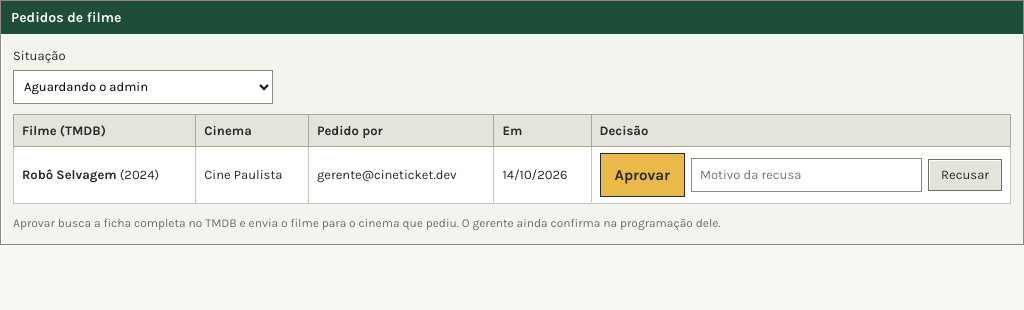
Test case: pedidos de filme (admin) › abre na fila aguardando, recusa com o motivo e aprova
This screenshot has width=1024, height=310.
Click the button with aria-label "Recusar Robô Selvagem" at (965, 175), box [928, 159, 1002, 191]
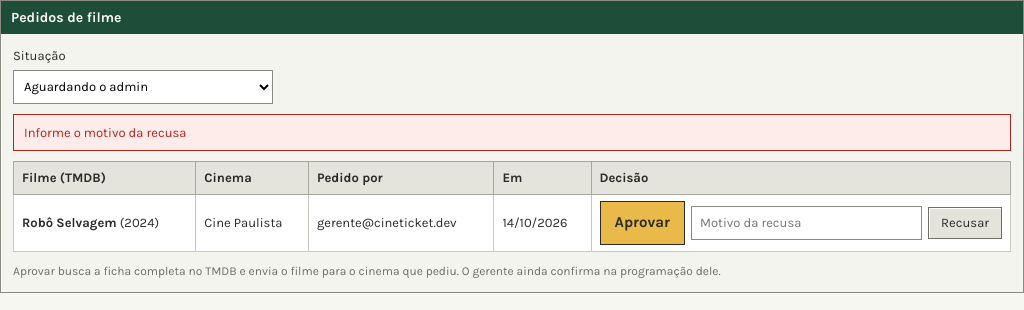
expect the message reads "Informe o motivo da recusa": met, box [24, 124, 186, 140]
Type " Fora do perfil da rede " into the field named "Motivo da recusa de Robô Selvagem" at (806, 222), box [691, 206, 922, 240]
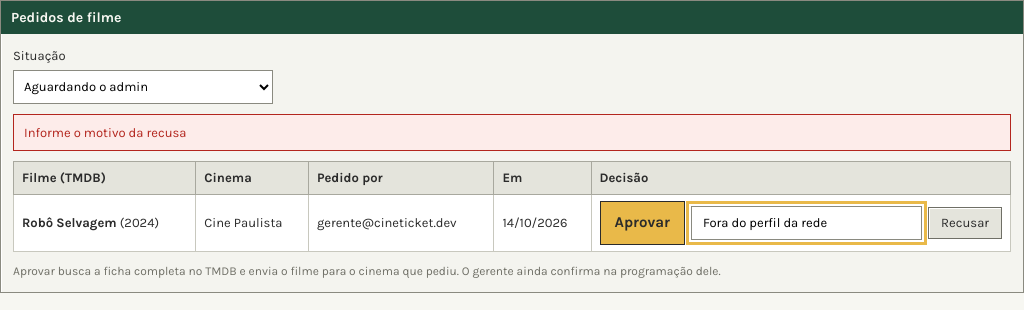
Click the button with aria-label "Recusar Robô Selvagem" at (965, 222), box [928, 206, 1002, 238]
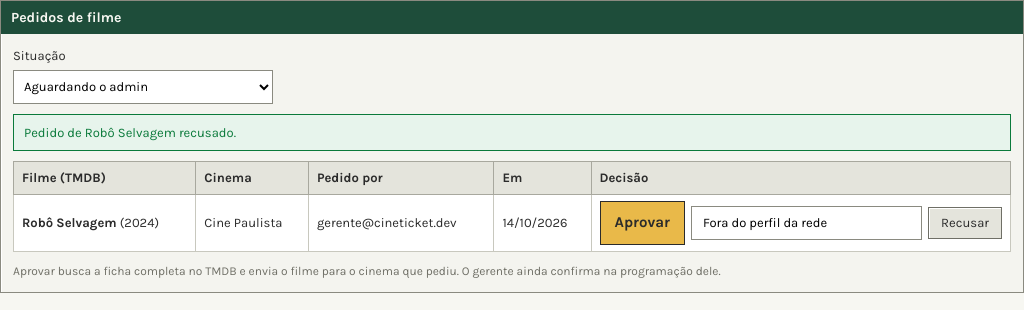
expect the text "Pedido de Robô Selvagem recusado." is shown: met, box [13, 114, 1011, 151]
Click the button with aria-label "Aprovar Robô Selvagem" at (642, 222), box [600, 200, 685, 244]
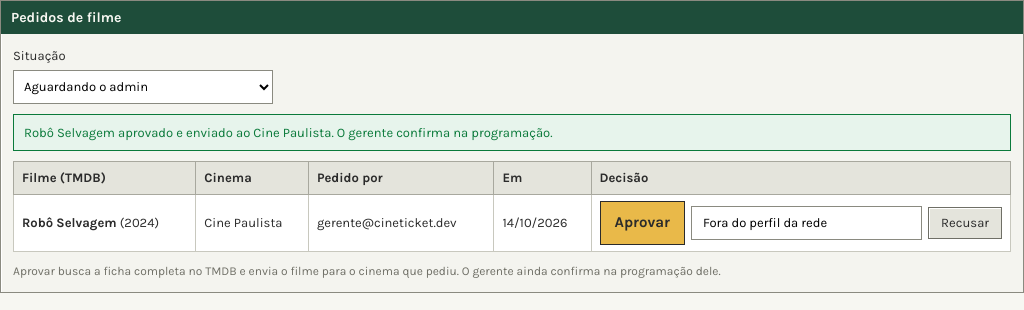
expect the text "Robô Selvagem aprovado e enviado ao Cine Paulista" is shown: met, box [24, 124, 553, 140]
